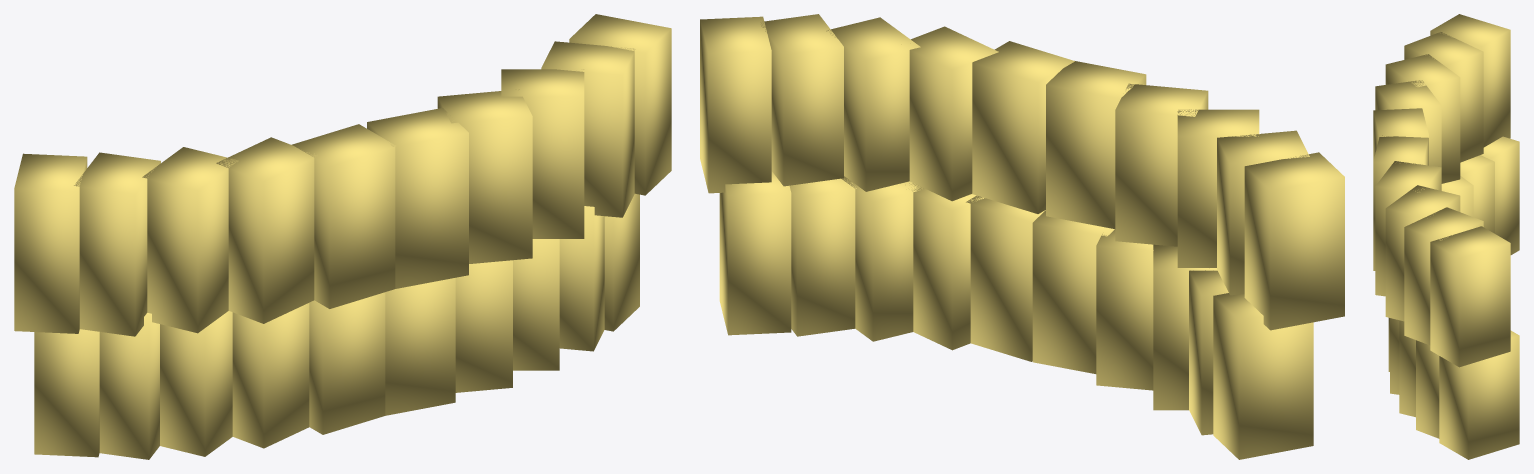
The model's file is gc-grillz-studio.glb.
3 views of the same model, side by side, from view 1: azimuth 30°, elevation 25°; view 2: azimuth 150°, elevation 25°; view 3: azimuth 270°, elevation 25° (orthographic). The views are drawn at different scales.
Visible parts, largest first — view 1: tooth_22, tooth_21, tooth_23, tooth_11, tooth_24, tooth_25, tooth_12, tooth_13, tooth_32, tooth_31, tooth_14, tooth_33 (+8 smaller); view 2: tooth_25, tooth_35, tooth_11, tooth_15, tooth_14, tooth_21, tooth_13, tooth_45, tooth_22, tooth_12, tooth_31, tooth_44 (+8 smaller); view 3: tooth_15, tooth_45, tooth_14, tooth_25, tooth_24, tooth_23, tooth_13, tooth_12, tooth_35, tooth_22, tooth_44, tooth_11 (+5 smaller).
Boxes of the visible parts, bbox=[...] form: tooth_22: bbox=[216, 137, 317, 323]; tooth_21: bbox=[292, 124, 395, 308]; tooth_23: bbox=[142, 147, 238, 333]; tooth_11: bbox=[367, 108, 468, 288]; tooth_24: bbox=[74, 152, 160, 336]; tooth_25: bbox=[14, 153, 87, 333]; tooth_12: bbox=[437, 89, 532, 263]; tooth_13: bbox=[501, 69, 584, 238]; tooth_32: bbox=[232, 303, 309, 448]; tooth_31: bbox=[309, 292, 385, 434]; tooth_14: bbox=[541, 41, 635, 217]; tooth_33: bbox=[160, 311, 232, 456]; tooth_25: bbox=[1244, 152, 1344, 330]; tooth_35: bbox=[1213, 293, 1313, 459]; tooth_11: bbox=[972, 41, 1074, 213]; tooth_15: bbox=[700, 16, 771, 193]; tooth_14: bbox=[761, 14, 843, 186]; tooth_21: bbox=[1046, 61, 1146, 228]; tooth_13: bbox=[826, 17, 920, 191]; tooth_45: bbox=[719, 171, 791, 335]; tooth_22: bbox=[1115, 83, 1208, 246]; tooth_12: bbox=[909, 26, 998, 201]; tooth_31: bbox=[1032, 210, 1114, 373]; tooth_44: bbox=[789, 178, 856, 336]; tooth_15: bbox=[1430, 226, 1510, 367]; tooth_45: bbox=[1439, 330, 1519, 459]; tooth_14: bbox=[1404, 207, 1483, 345]; tooth_25: bbox=[1430, 14, 1510, 147]; tooth_24: bbox=[1404, 32, 1483, 162]; tooth_23: bbox=[1385, 54, 1460, 183]; tooth_13: bbox=[1385, 185, 1460, 321]; tooth_12: bbox=[1375, 161, 1441, 296]; tooth_35: bbox=[1480, 136, 1519, 254]; tooth_22: bbox=[1375, 80, 1441, 167]; tooth_44: bbox=[1416, 340, 1439, 438]; tooth_11: bbox=[1373, 135, 1428, 270].
Size of the model in its own units: 4.11 by 1.65 by 1.04.
